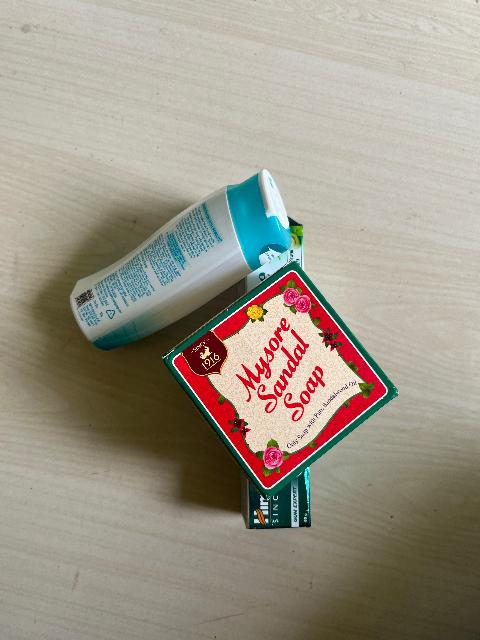boroplus: (37, 175, 308, 316)
mysore sandal soap: (165, 270, 431, 486)
